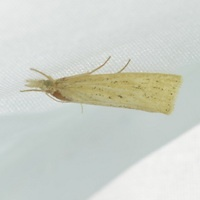insect: (21, 56, 181, 113)
